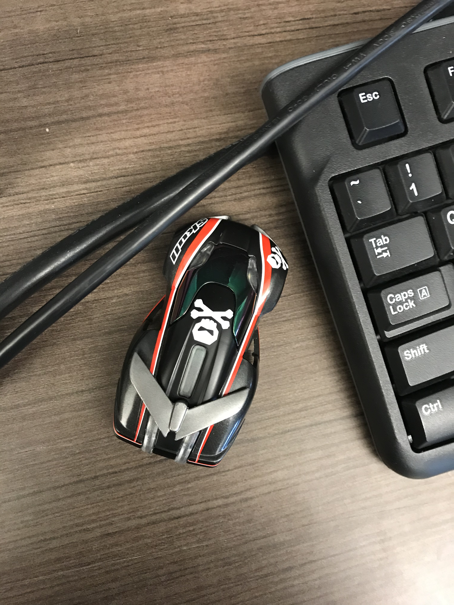Skull: (110, 213, 290, 468)
